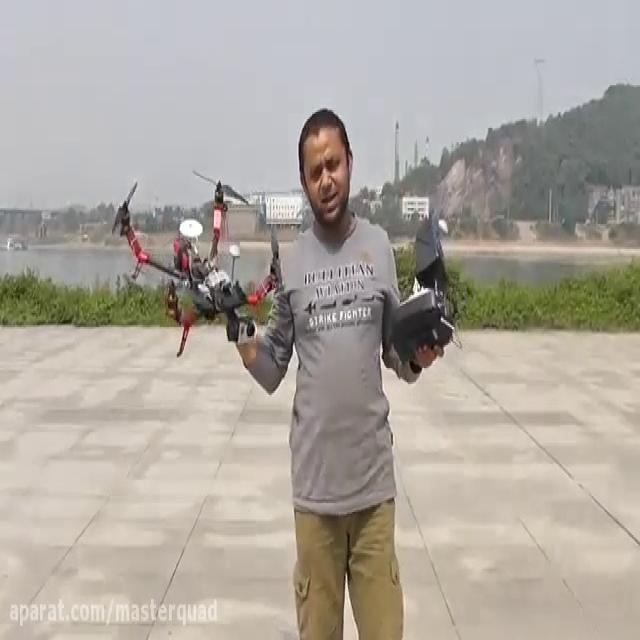drone: (105, 165, 283, 359)
